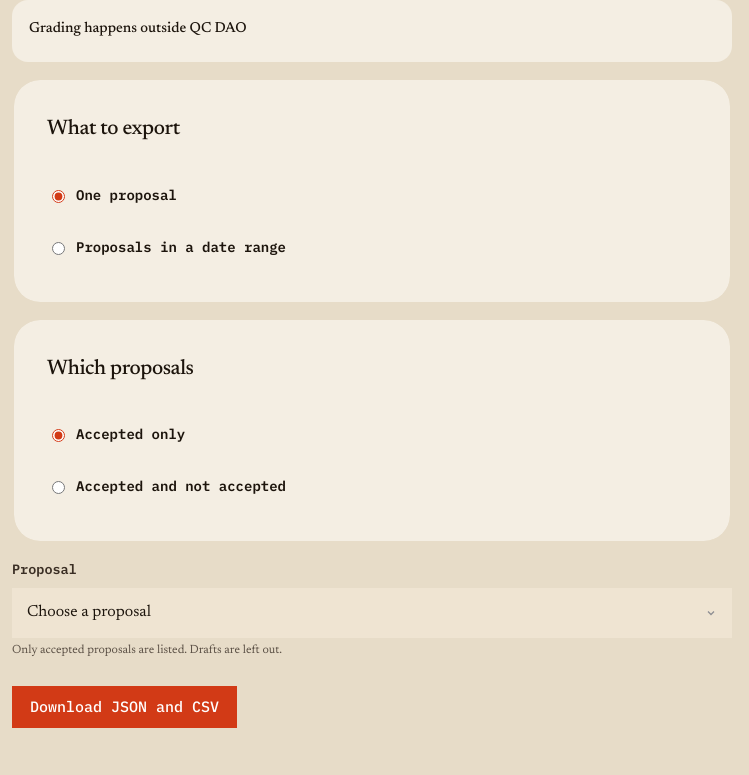
Test: QCDAO-107 proposal export panel › downloads the JSON and CSV for the proposal chosen in the dropdown
Select "Cold chain — Accepted · Grant call" in the dropdown labelled "Proposal" at (372, 613), box [12,588,732,638]
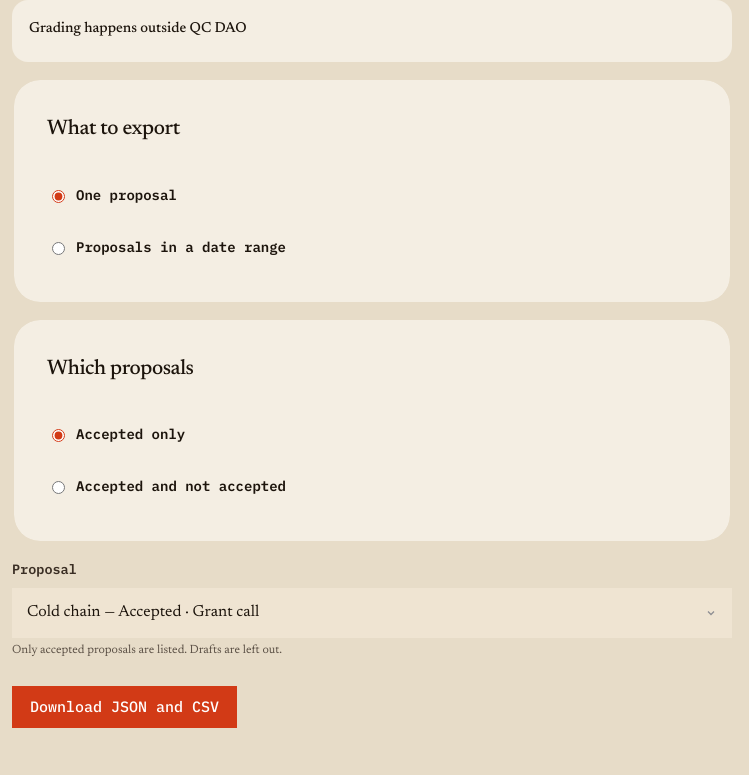
Click the button "Download JSON and CSV" at (124, 707), box [12,686,237,728]
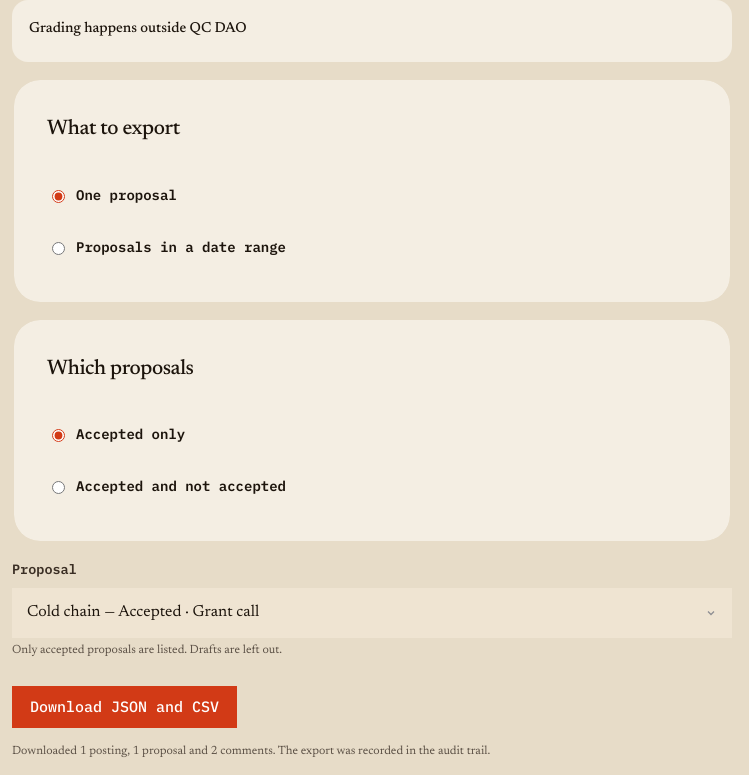
Result: the message is shown at [12,745,490,757]
